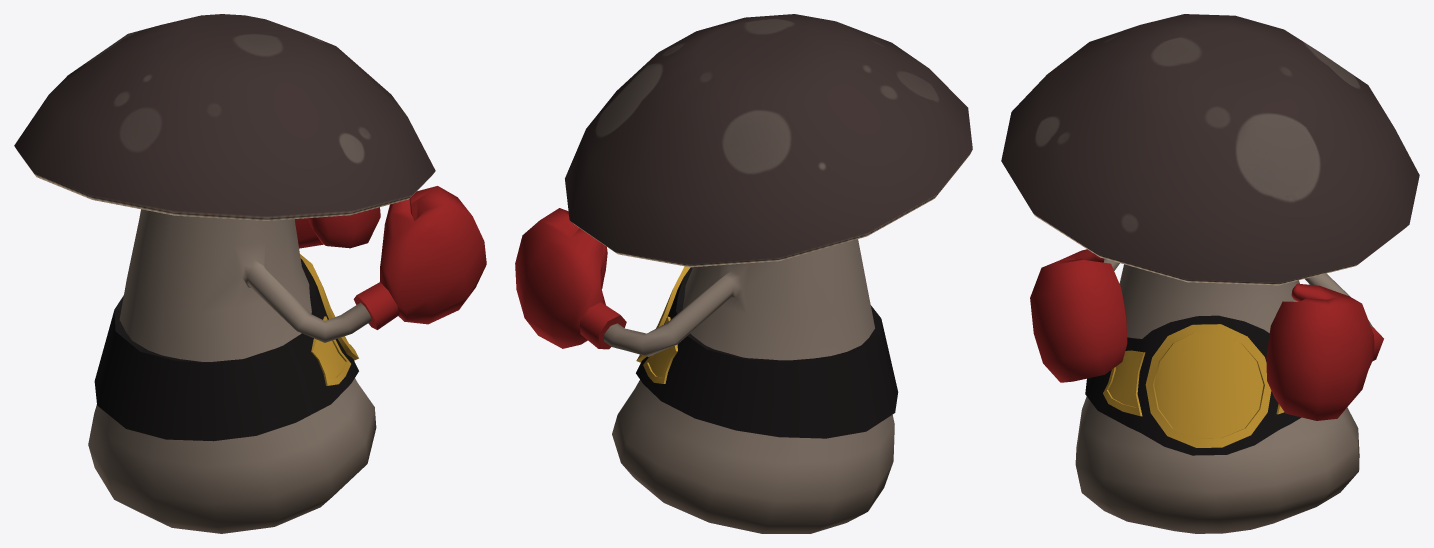
The model's file is ChungusMesh.fbx.
3 views of the same model, side by side, from view 1: azimuth 30°, elevation 25°; view 2: azimuth 150°, elevation 25°; view 3: azimuth 270°, elevation 25° (orthographic).
Parts seen in each view (by area): view 1: Chungus; view 2: Chungus; view 3: Chungus.
Boxes of the visible parts, x1,y1,x2,y2 form: Chungus: [14, 14, 486, 533]; Chungus: [515, 14, 972, 533]; Chungus: [1001, 14, 1419, 533].
Size of the model in its own units: 1.66 by 1.99 by 1.57.
Materials: 1 (1 with a texture image).
